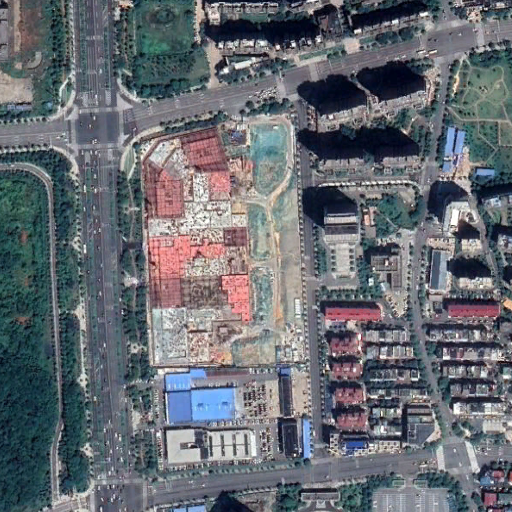cw: (227, 122, 300, 362)
